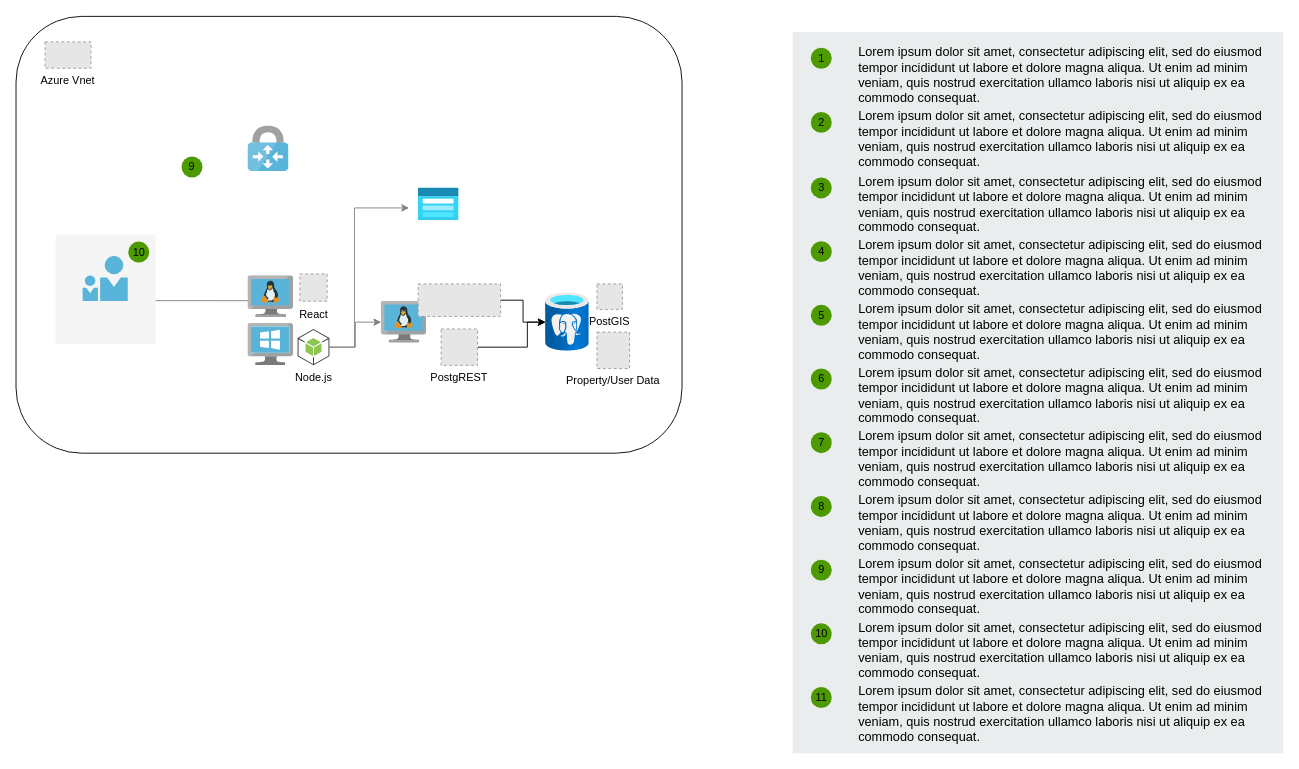
Some shapes in this 1299 by 769 pixel diagram are drawn without their labels. Grey dashed boxes stand in for pictures. The shapes that lost their labels are listed below. From the top down, each one's box as (x1, y1, x2, y2) in pixels, then its label:
(248, 126, 288, 171): VPN Gateway
(418, 187, 459, 220): Azure Storage Account
(82, 256, 128, 301): Simmons Company
(381, 301, 426, 343): API Layer
(545, 293, 589, 351): PostGres
